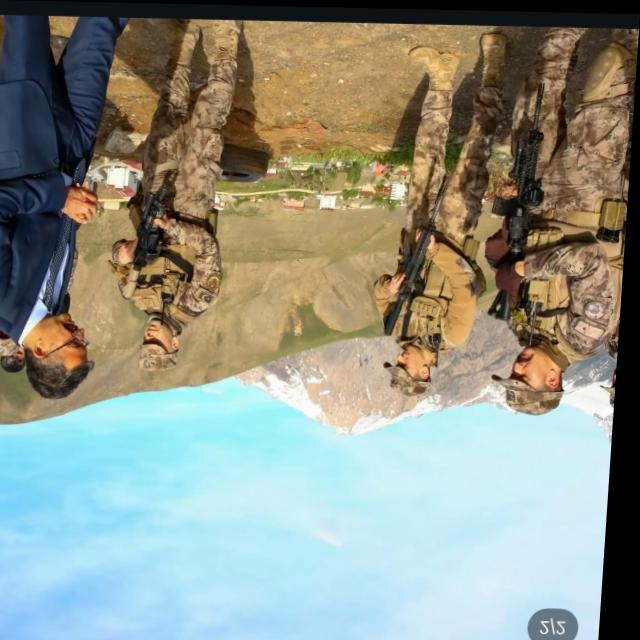poh_personel: (482, 9, 640, 414), (107, 2, 241, 372), (373, 34, 508, 396)
